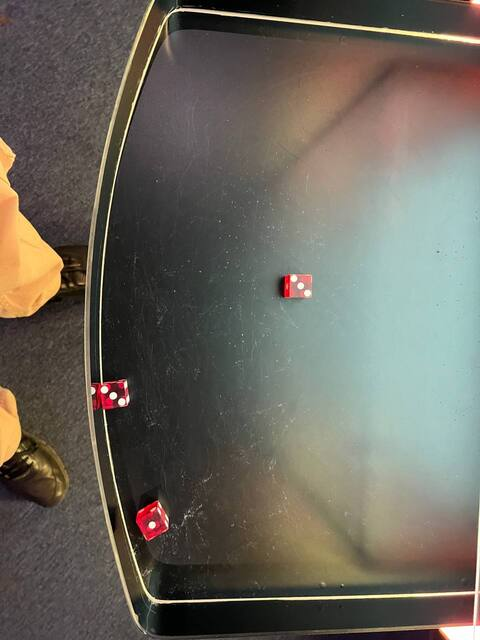one: (133, 508, 170, 541)
three: (96, 379, 128, 412), (283, 270, 316, 301)
